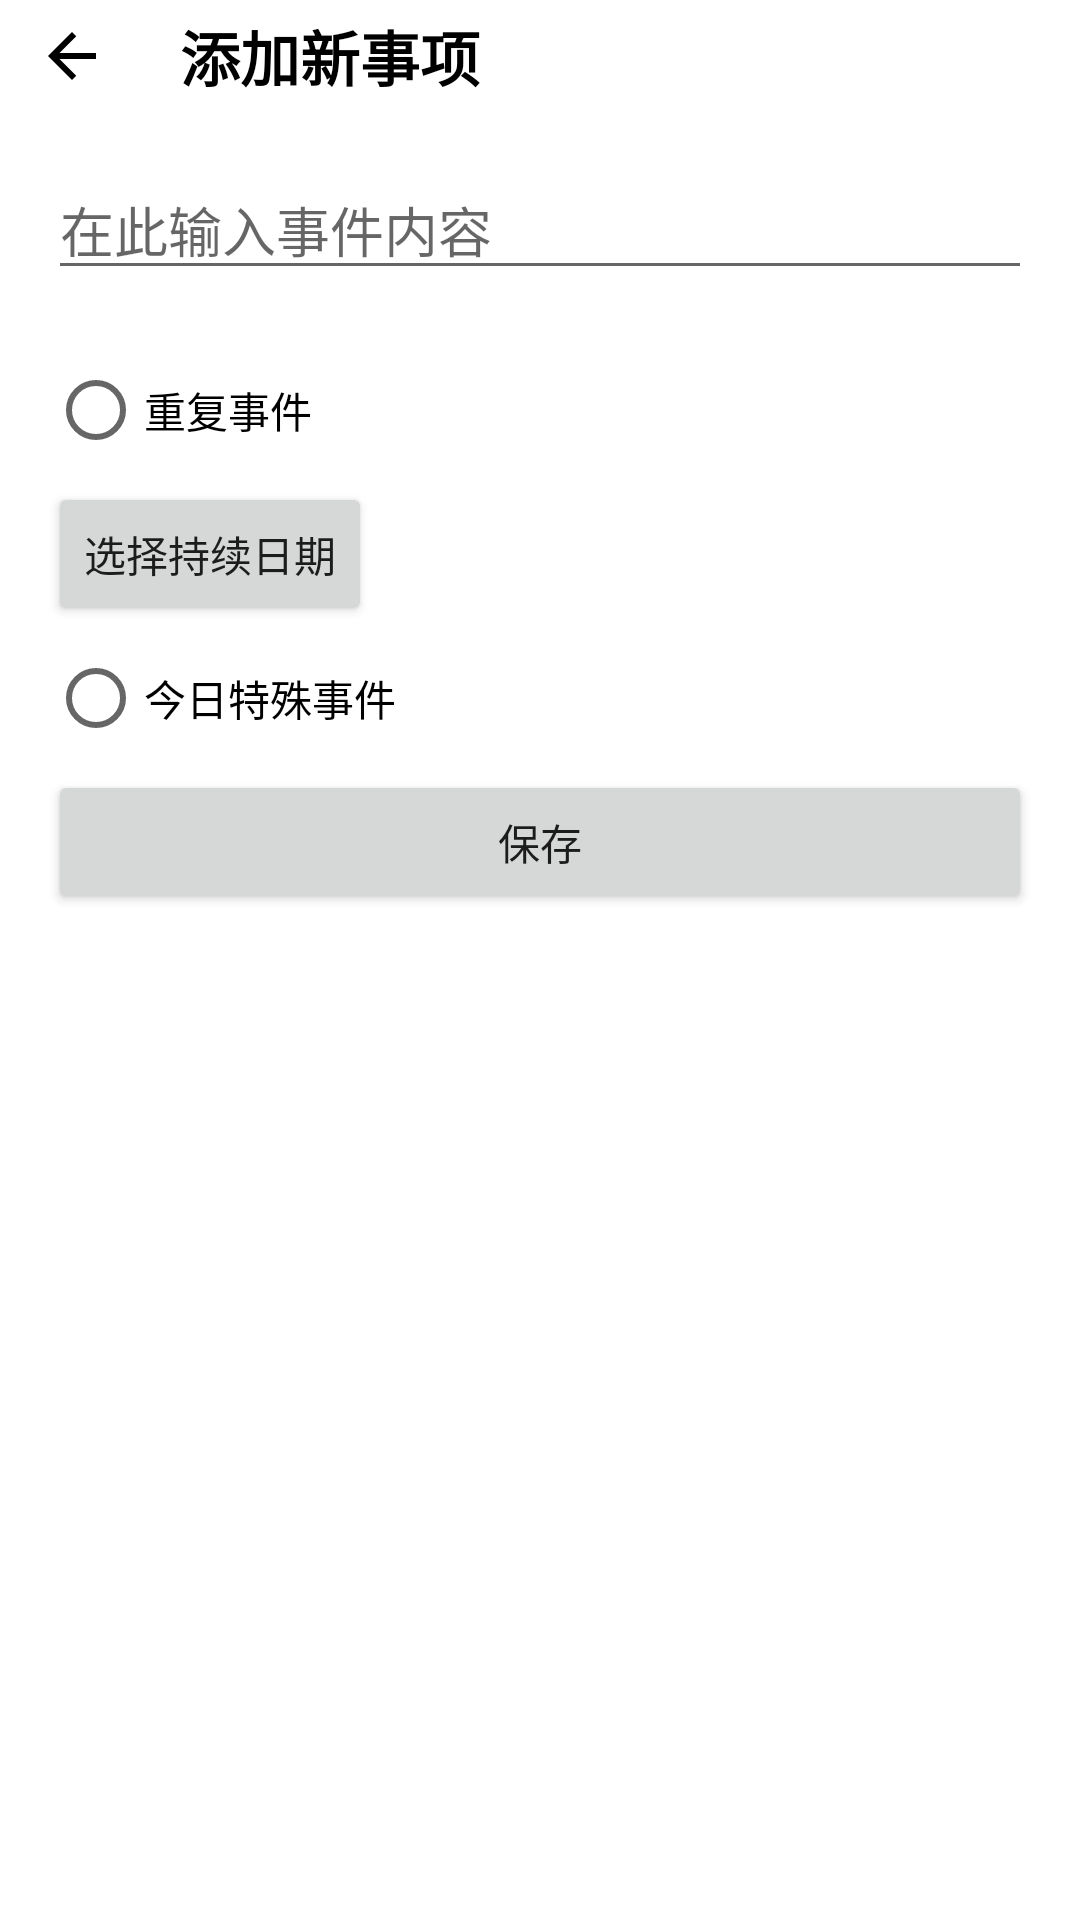

Locate icon controls on the screen. Image size 1080*1920, boxes as Rect(x1, y1, x2, y2).
arrow back: Rect(48, 32, 96, 80)
